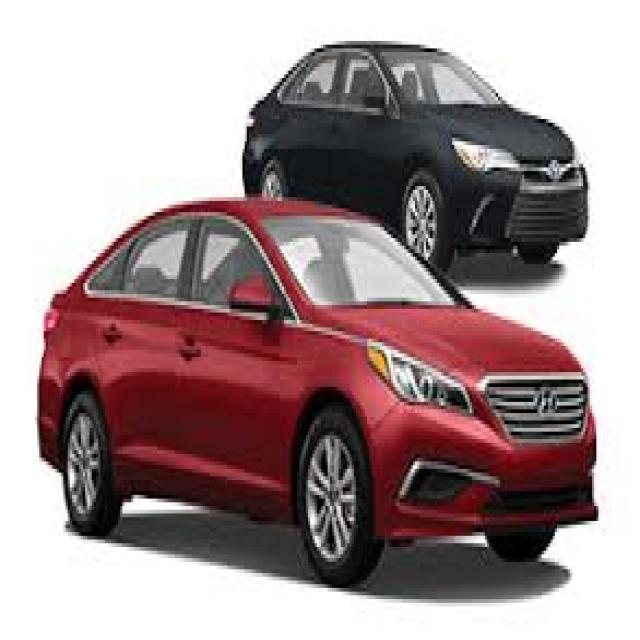Car: (33, 191, 599, 580), (233, 31, 584, 250)
